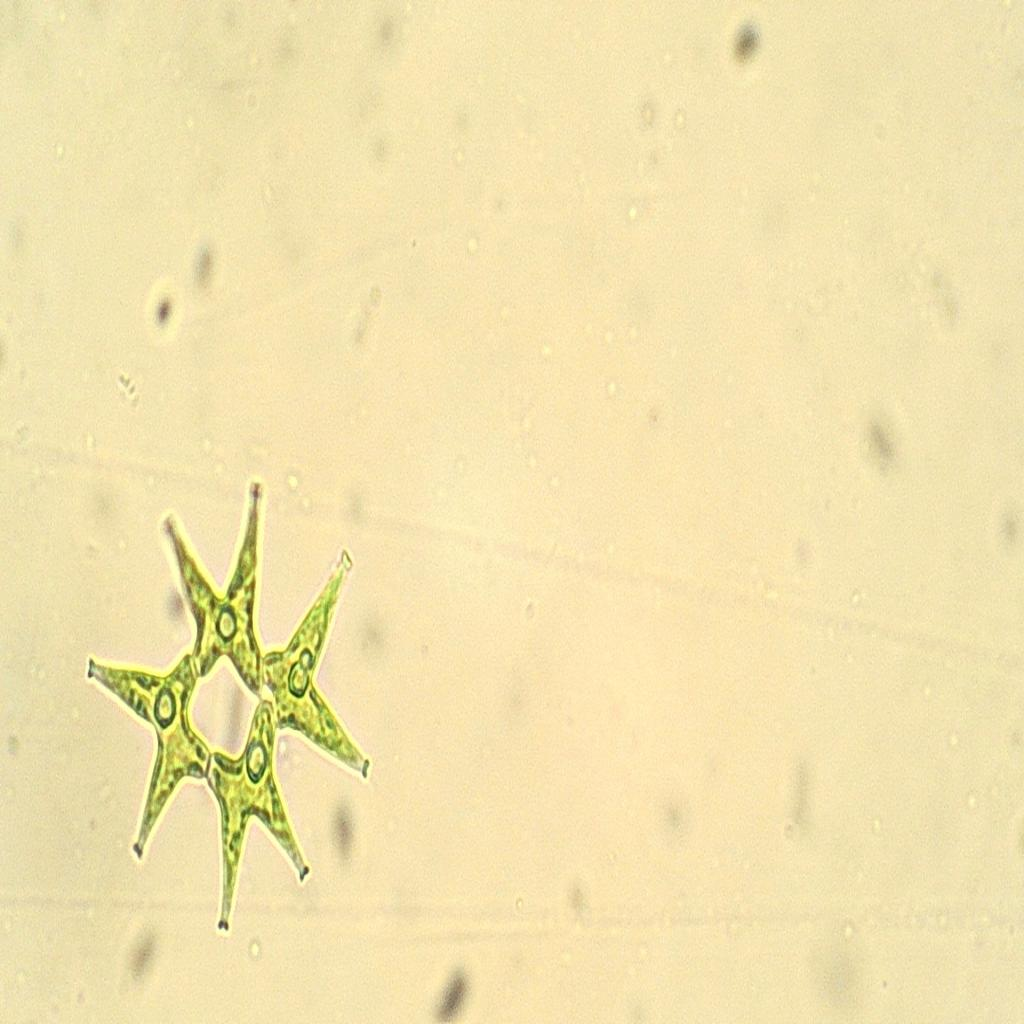Pediastrum_CT: (66, 465, 386, 948)
